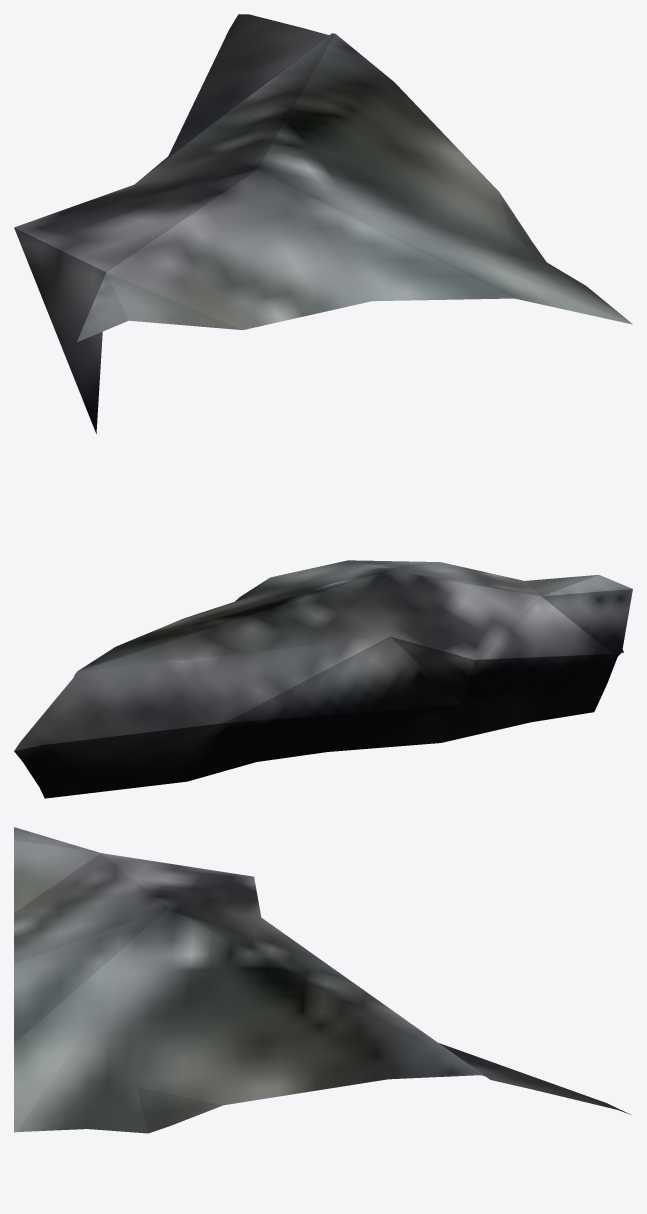
3 renders of one model, top to bottom at view 1: azimuth 30°, elevation 25°; view 2: azimuth 150°, elevation 25°; view 3: azimuth 270°, elevation 25°, orthographic. The views are drawn at different scales.
Size of the model in its own units: 0.0808 by 0.0327 by 0.0993.
Materials: 1 (1 with a texture image).
